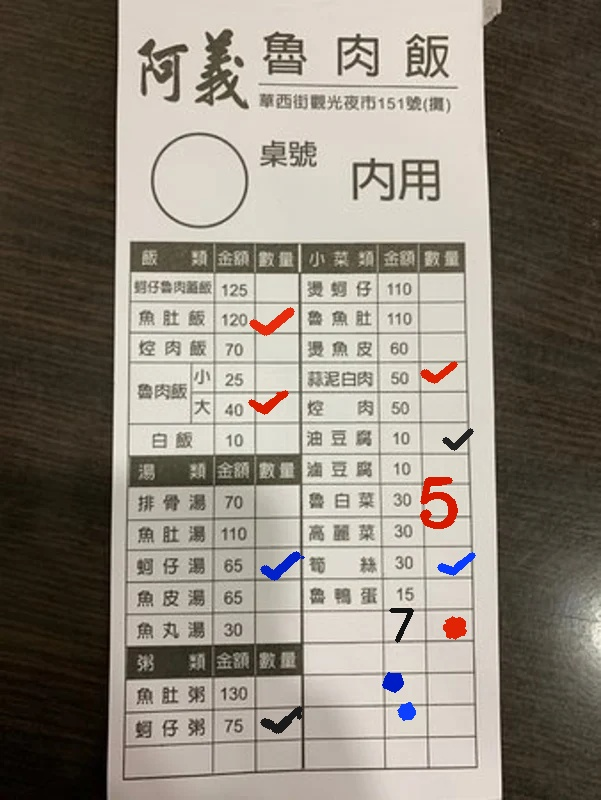marked_circle: (384, 705, 427, 733), (382, 674, 425, 702), (429, 612, 472, 640)
marked_number_5: (426, 486, 469, 514)
marked_number_7: (382, 609, 425, 637)
marked_tick: (256, 303, 299, 331), (256, 393, 299, 421), (421, 361, 464, 389), (422, 422, 465, 450), (427, 549, 470, 577), (258, 550, 301, 578), (256, 709, 299, 737)
